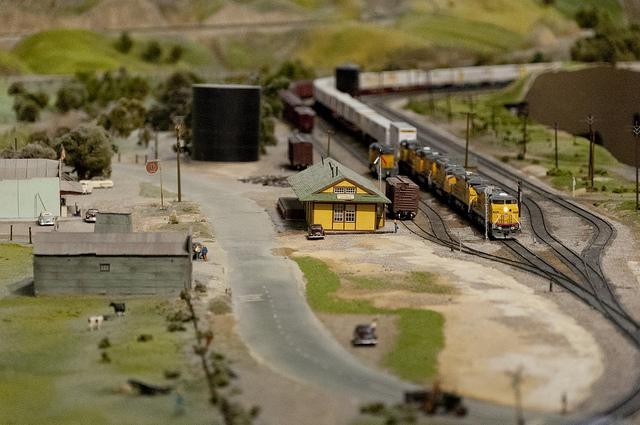Train: (309, 62, 571, 243), (277, 86, 316, 135)
